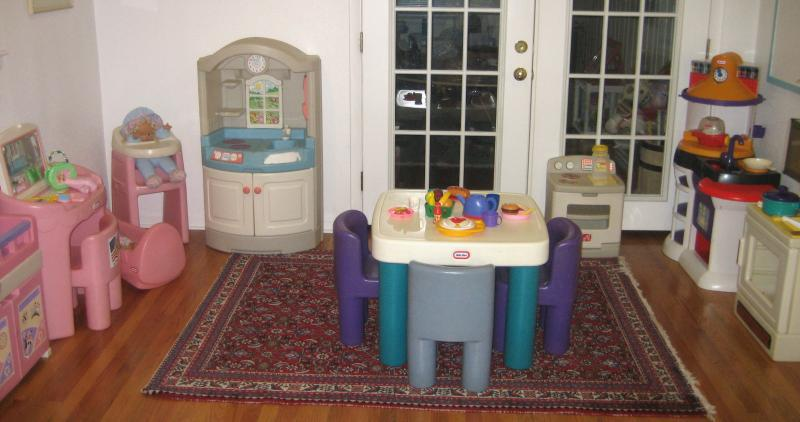Otro Obstaculo: (196, 42, 318, 257), (7, 123, 122, 339), (665, 46, 760, 269), (673, 143, 766, 296), (104, 103, 192, 248), (732, 197, 795, 367), (551, 161, 633, 262)
Puerta: (363, 3, 529, 187)
Ventana: (562, 7, 673, 202)
